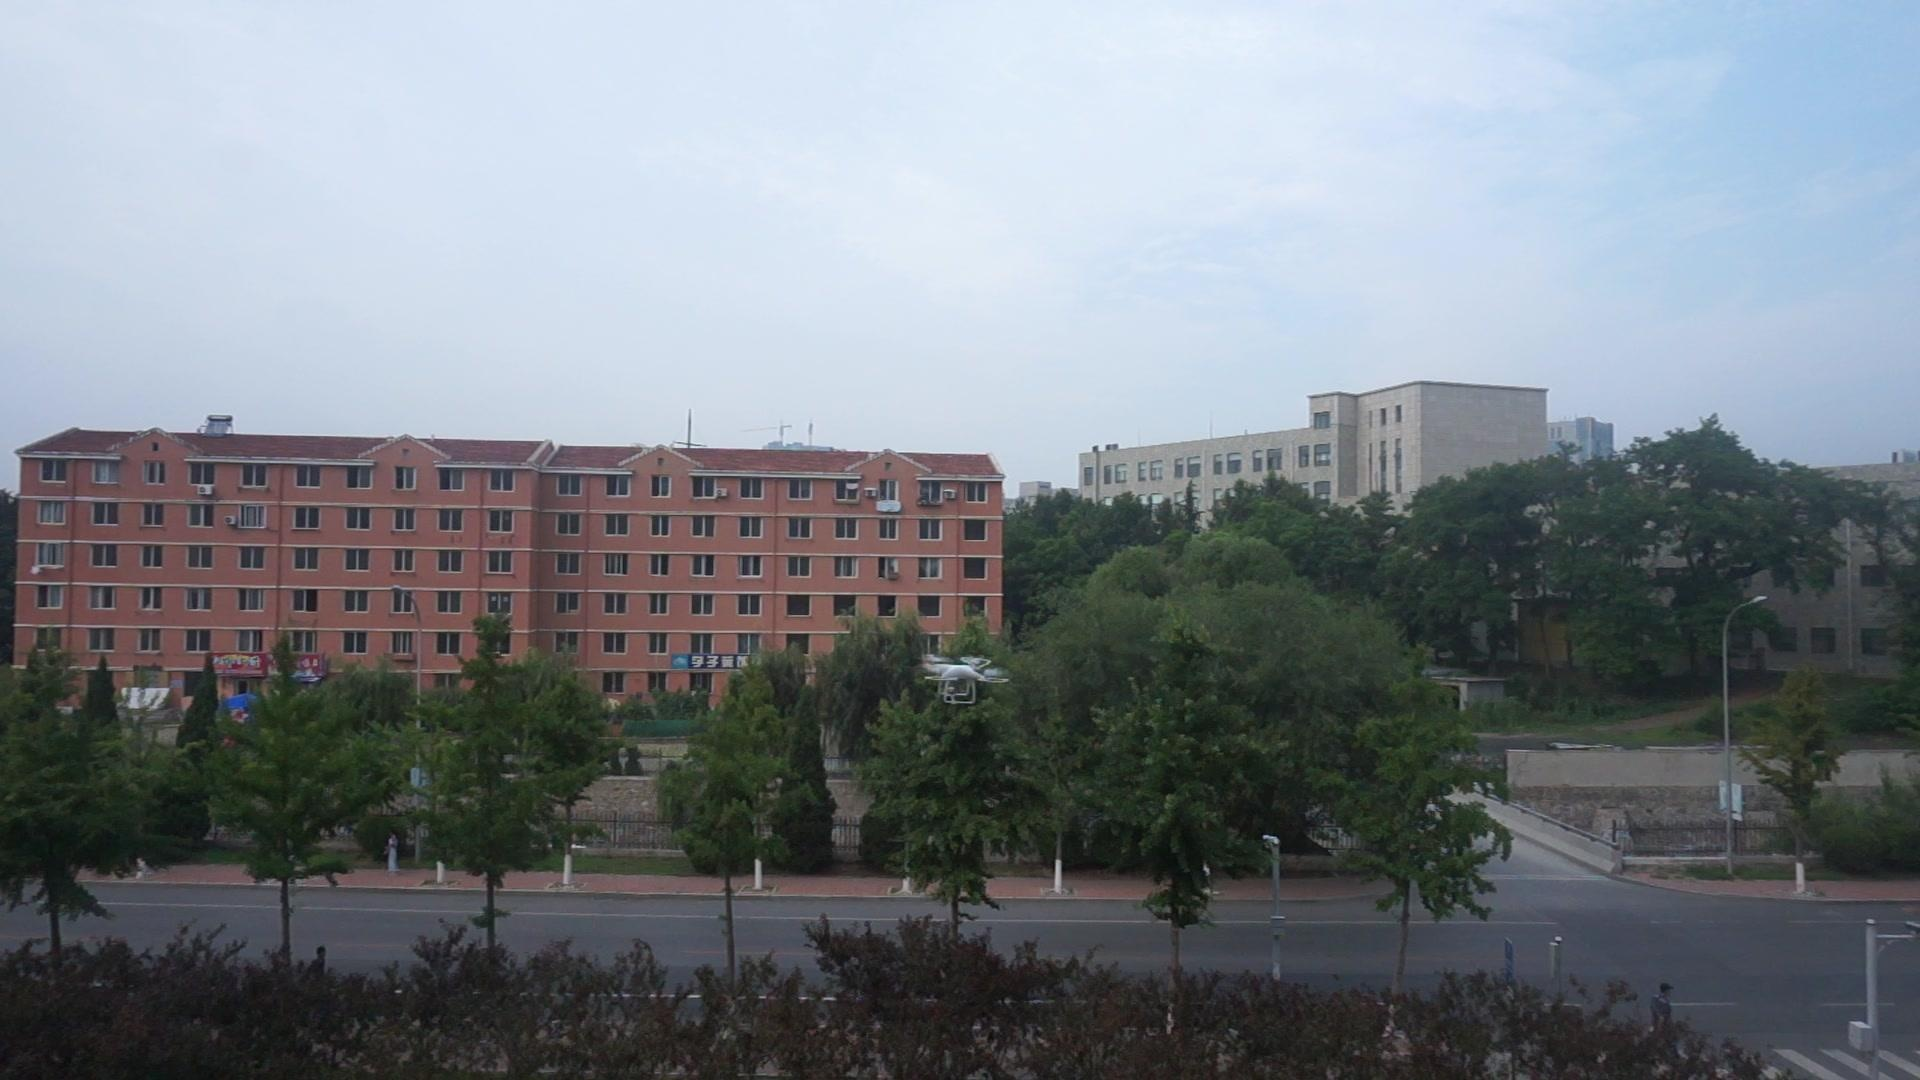UAV: (920, 654, 1010, 705)
